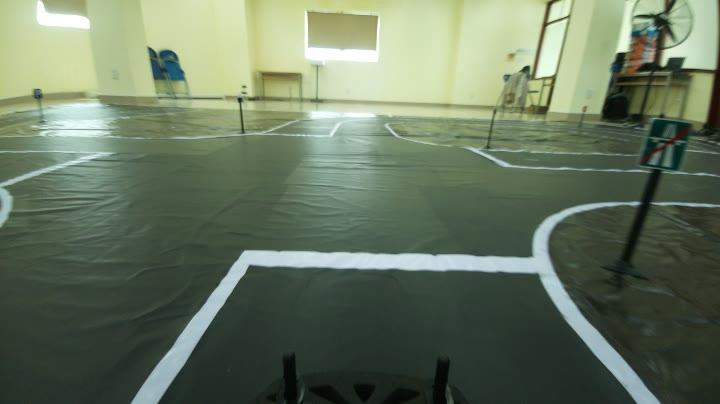highway_exit: (638, 108, 692, 184)
